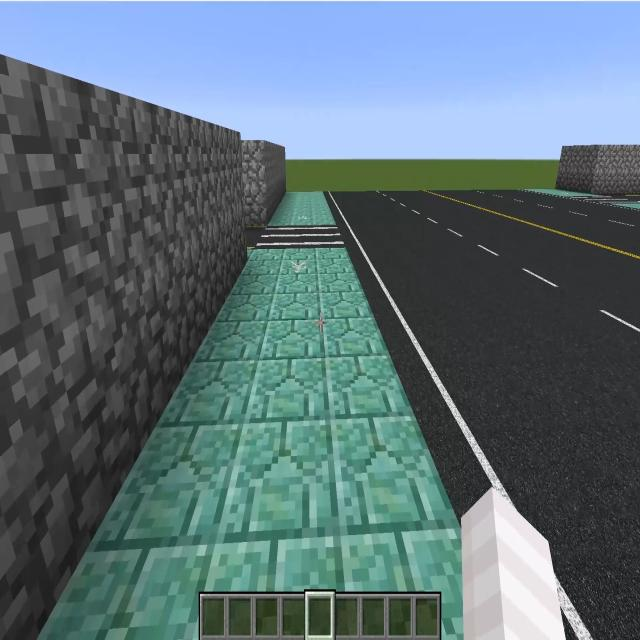crosswalk: (257, 228, 344, 246), (569, 198, 640, 204)
road: (329, 192, 640, 639), (247, 226, 265, 248)
sidewalk: (40, 249, 463, 639), (269, 191, 334, 225), (525, 189, 605, 195), (612, 203, 640, 209), (606, 195, 640, 196)
